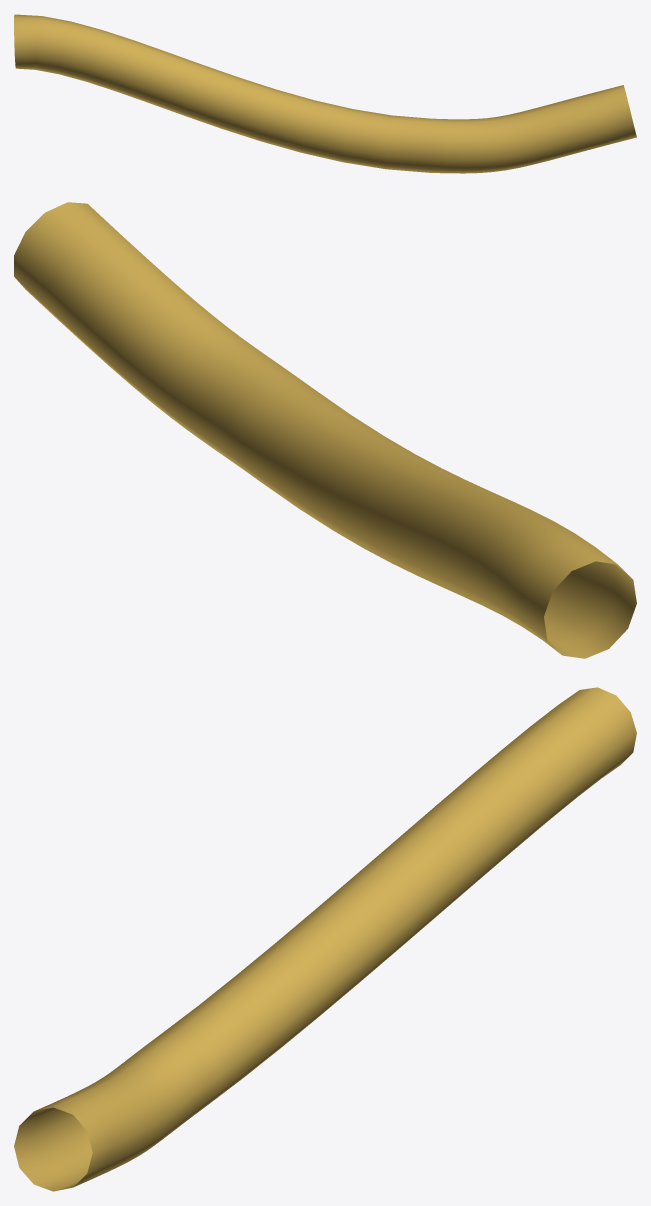
The picture shows the model from 3 angles, top to bottom: view 1: azimuth 30°, elevation 25°; view 2: azimuth 150°, elevation 25°; view 3: azimuth 270°, elevation 25°; orthographic projection. The views are drawn at different scales.
Parts seen in each view (by area): view 1: 右侧臂丛下干; view 2: 右侧臂丛下干; view 3: 右侧臂丛下干.
Part boxes in pixels (bbox=[...]): 右侧臂丛下干: bbox=[14, 14, 636, 173]; 右侧臂丛下干: bbox=[14, 202, 636, 658]; 右侧臂丛下干: bbox=[14, 687, 636, 1191].
Size of the model in its own units: 0.0438 by 0.0114 by 0.0321.
